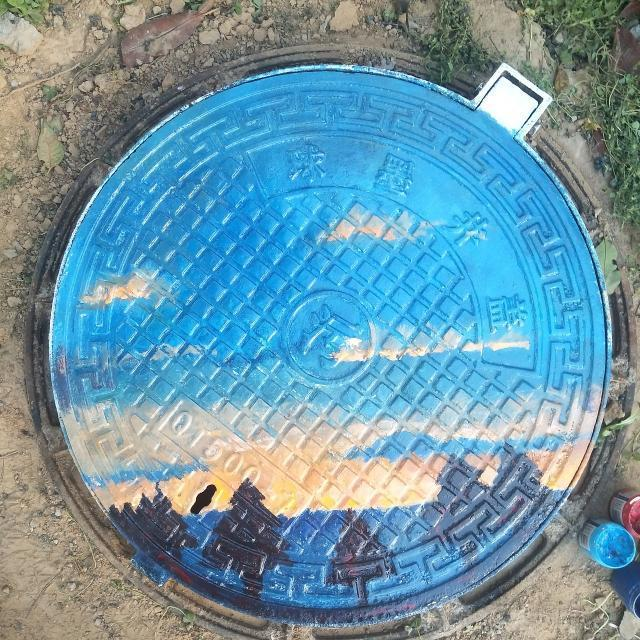manhole: (43, 64, 613, 635)
